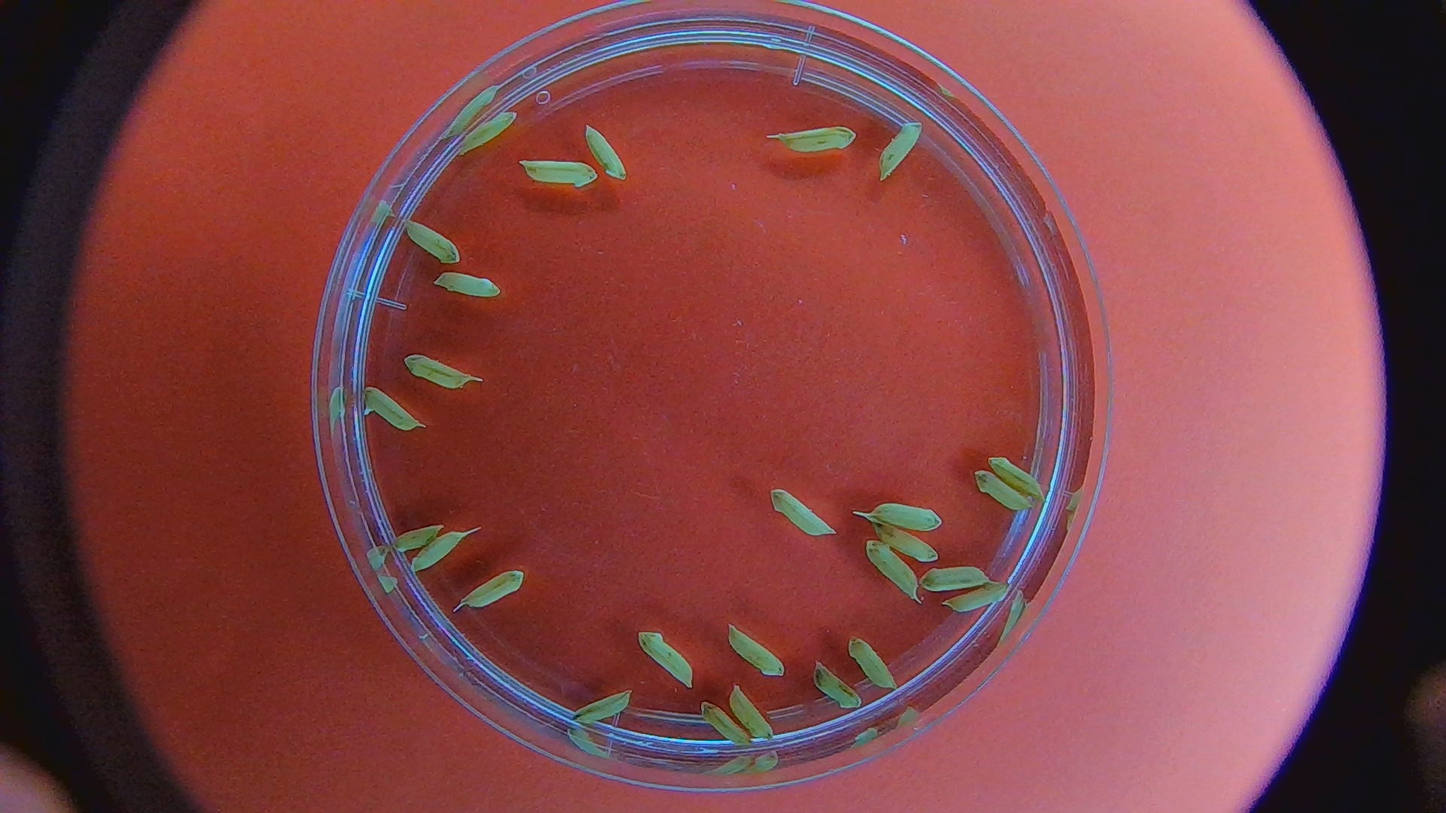no: (634, 625, 695, 689), (767, 486, 838, 537), (721, 624, 787, 676), (874, 119, 926, 184), (866, 539, 920, 598), (358, 385, 423, 434), (457, 569, 528, 612), (696, 699, 754, 750), (871, 520, 941, 562), (728, 681, 776, 739), (404, 216, 463, 262), (849, 635, 898, 690), (868, 500, 947, 534), (519, 157, 599, 190), (409, 528, 465, 575), (584, 121, 627, 180), (813, 661, 865, 709), (404, 353, 471, 390), (435, 269, 505, 303), (944, 577, 1014, 611), (987, 455, 1042, 498), (974, 470, 1032, 510), (919, 561, 990, 593), (780, 126, 859, 154), (571, 689, 631, 725), (387, 521, 444, 554)
